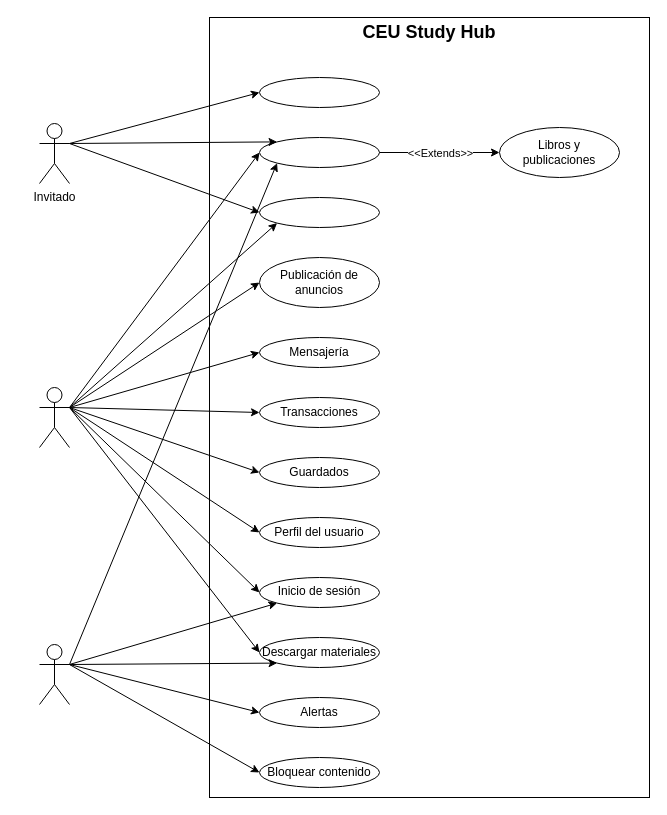
Some shapes in this 667 by 815 pixel diagram are drawn without their labels. The box of each missing label's shape, as (x1, y1, x2, y2) in pixels:
Administrador: (38, 644, 70, 704)
Registrado: (38, 386, 70, 448)
Registro: (258, 76, 380, 108)
Ver Anuncios: (258, 136, 380, 168)
Ver perfiles: (258, 196, 380, 228)
